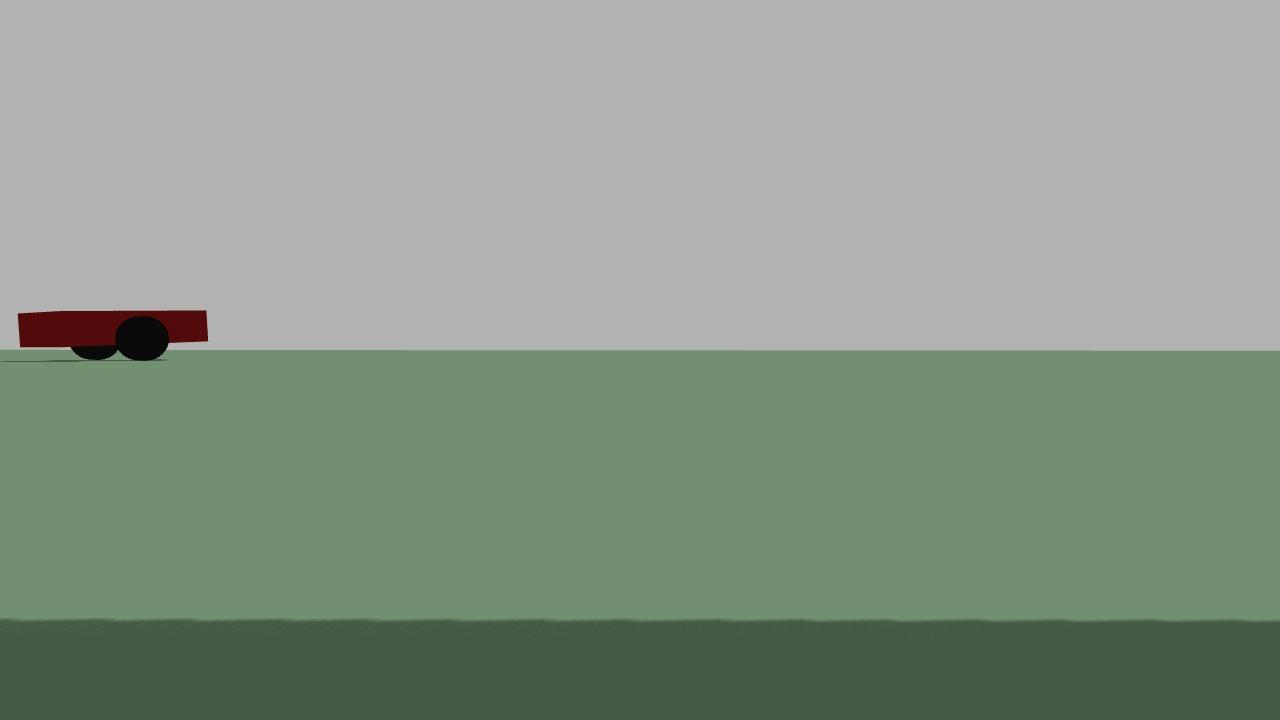ground_vehicle: (11, 295, 215, 368)
